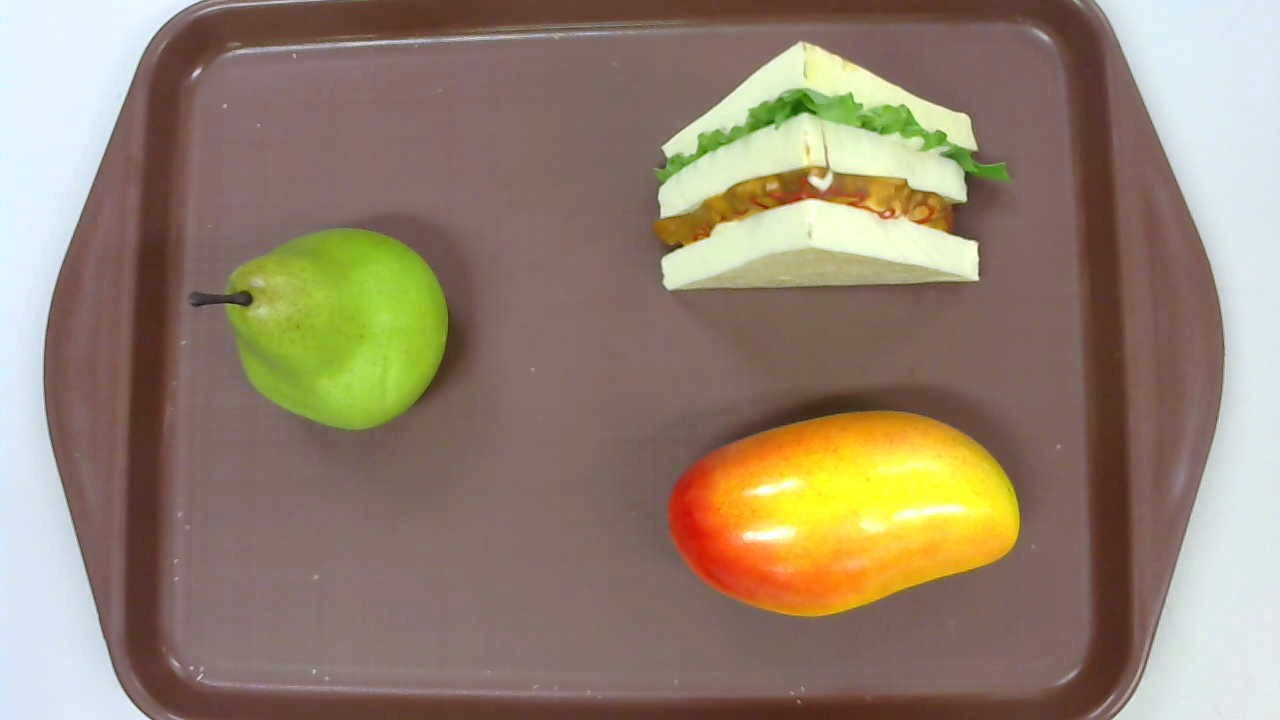green pear: (188, 227, 447, 430)
red mango: (668, 411, 1019, 617)
sandwich: (650, 41, 1013, 290)
